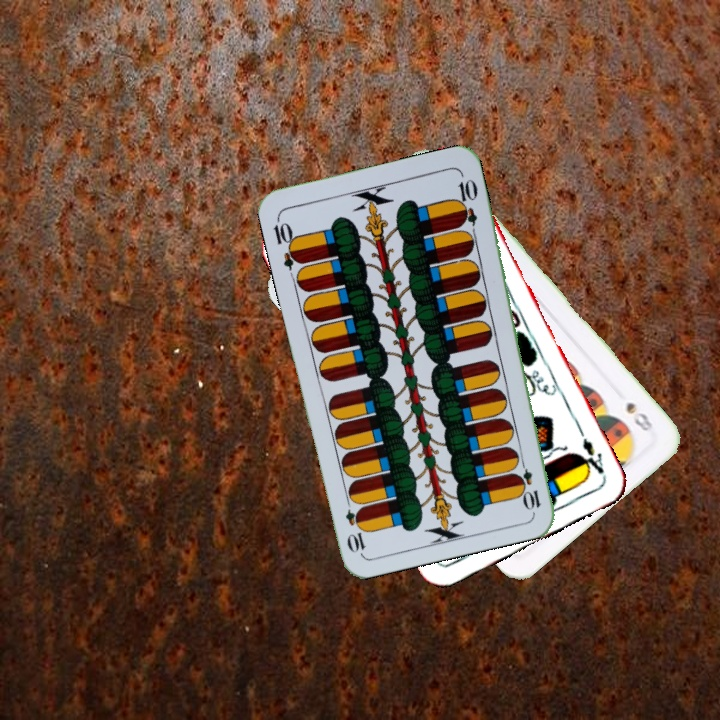E10: (269, 213, 305, 272), (514, 454, 543, 513)
EA: (576, 434, 607, 479)
S8: (622, 398, 656, 434)
